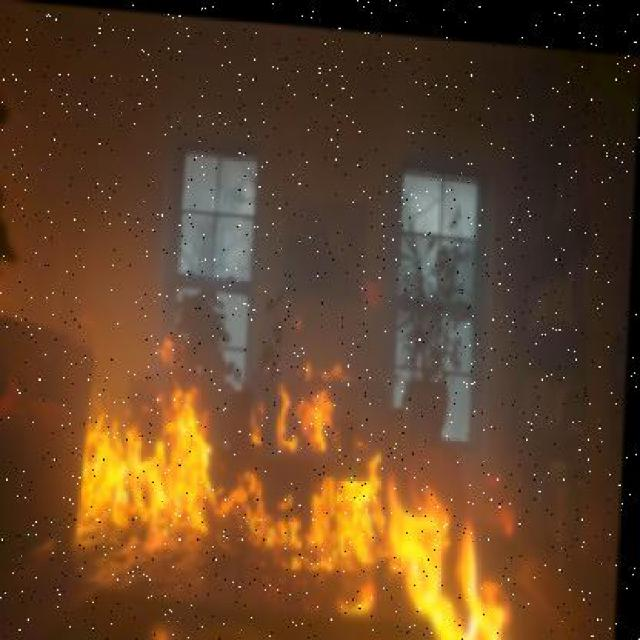fire: (83, 320, 581, 640)
